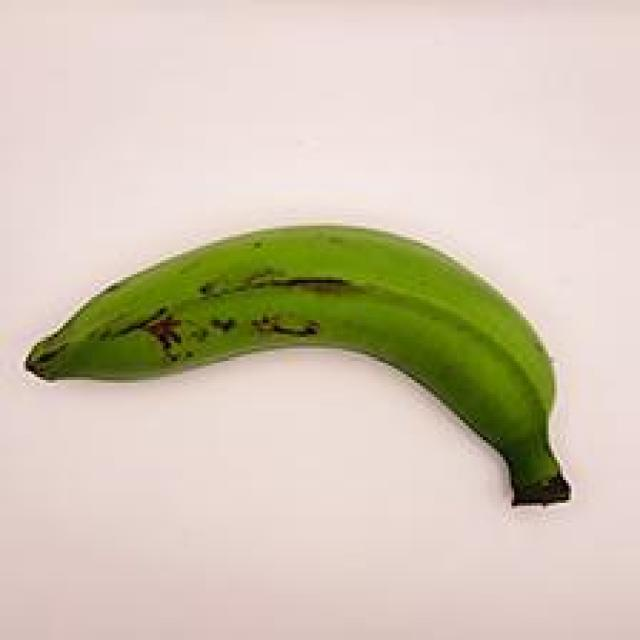Raw: (8, 200, 610, 540)
